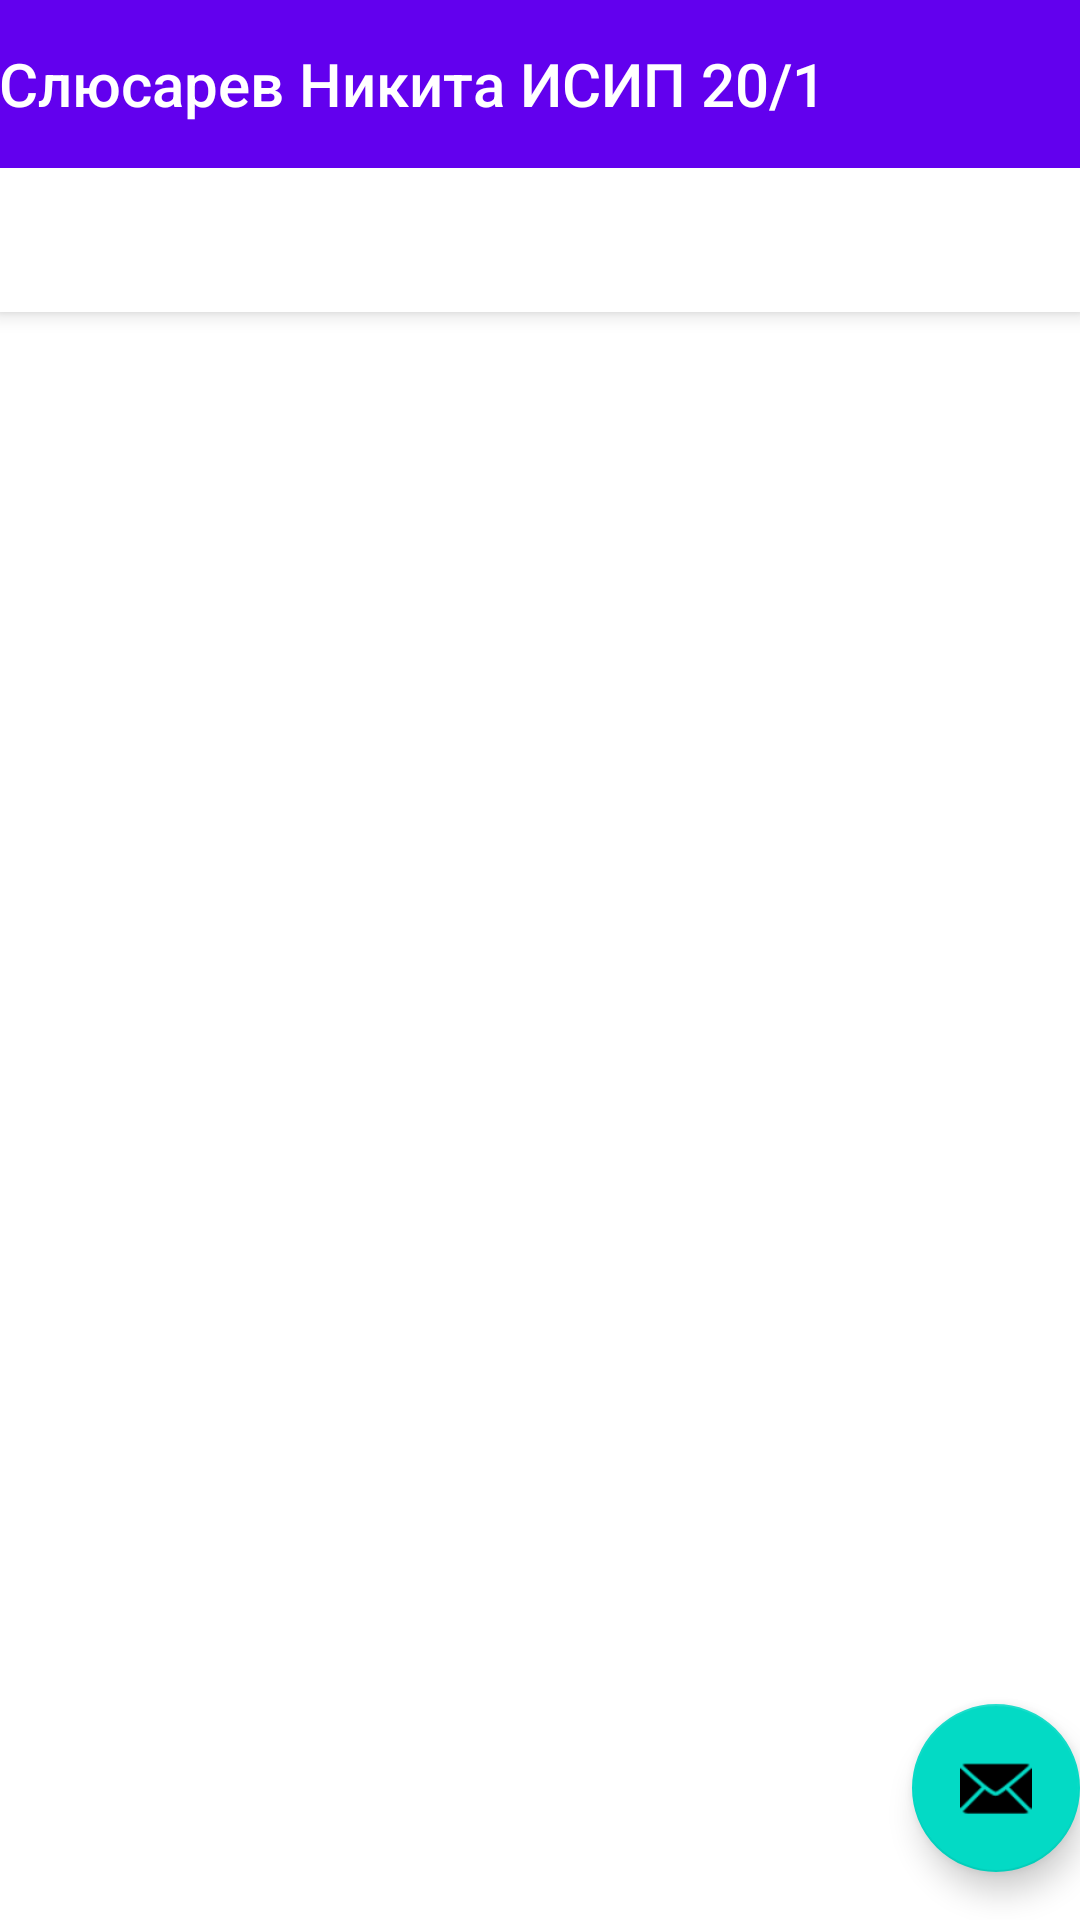

Screen size 1080*1920. Icon name, then its center in pixels as [x,y]:
email: [996,1788]
